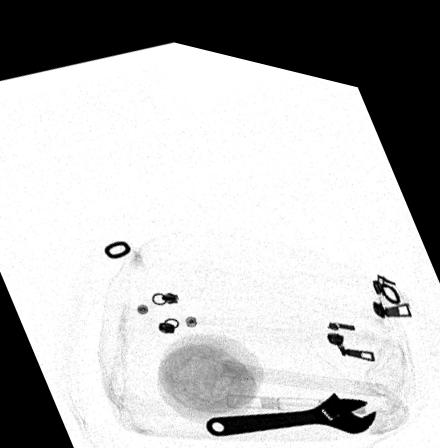Wrench: (203, 373, 377, 427)
